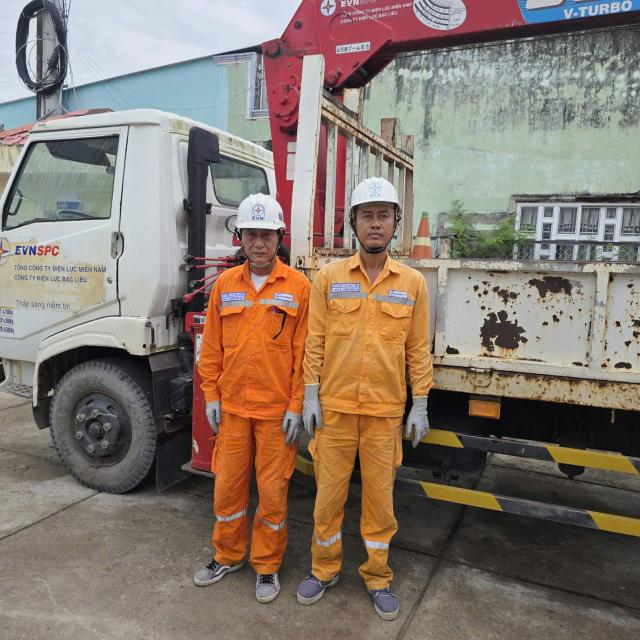gloves: (400, 388, 442, 451), (299, 378, 336, 440), (196, 393, 240, 435), (274, 406, 308, 449)
helmet: (217, 182, 299, 240), (342, 162, 422, 221)
shoes: (193, 519, 245, 592), (292, 559, 342, 605), (362, 573, 404, 622), (251, 569, 287, 613)
